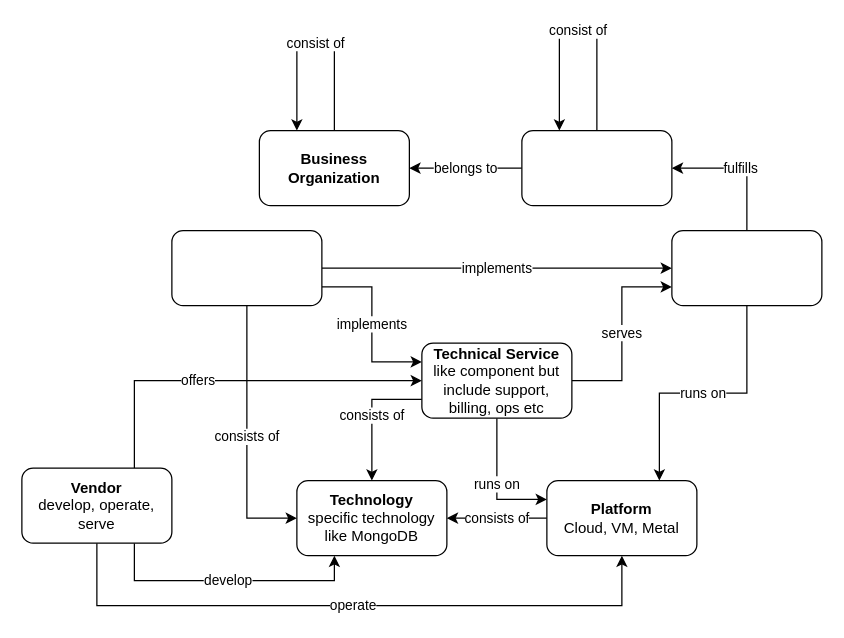
Some shapes in this 844 by 638 pixel diagram are drawn without their labels. The shapes that lost their labels are listed below. From the top down, each one's box as (x1, y1, x2, y2) in pixels, then its label:
(521, 129, 672, 206): Business Capability
(171, 229, 322, 306): Component abstracts a technology into a reusable piece
(671, 229, 822, 306): Product/Application Combining components and services to a usable
